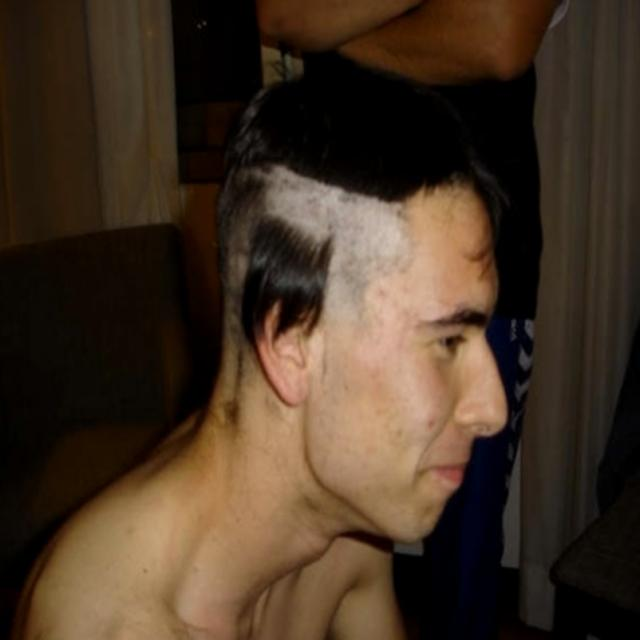piel: (3, 192, 509, 640), (257, 0, 559, 95)
